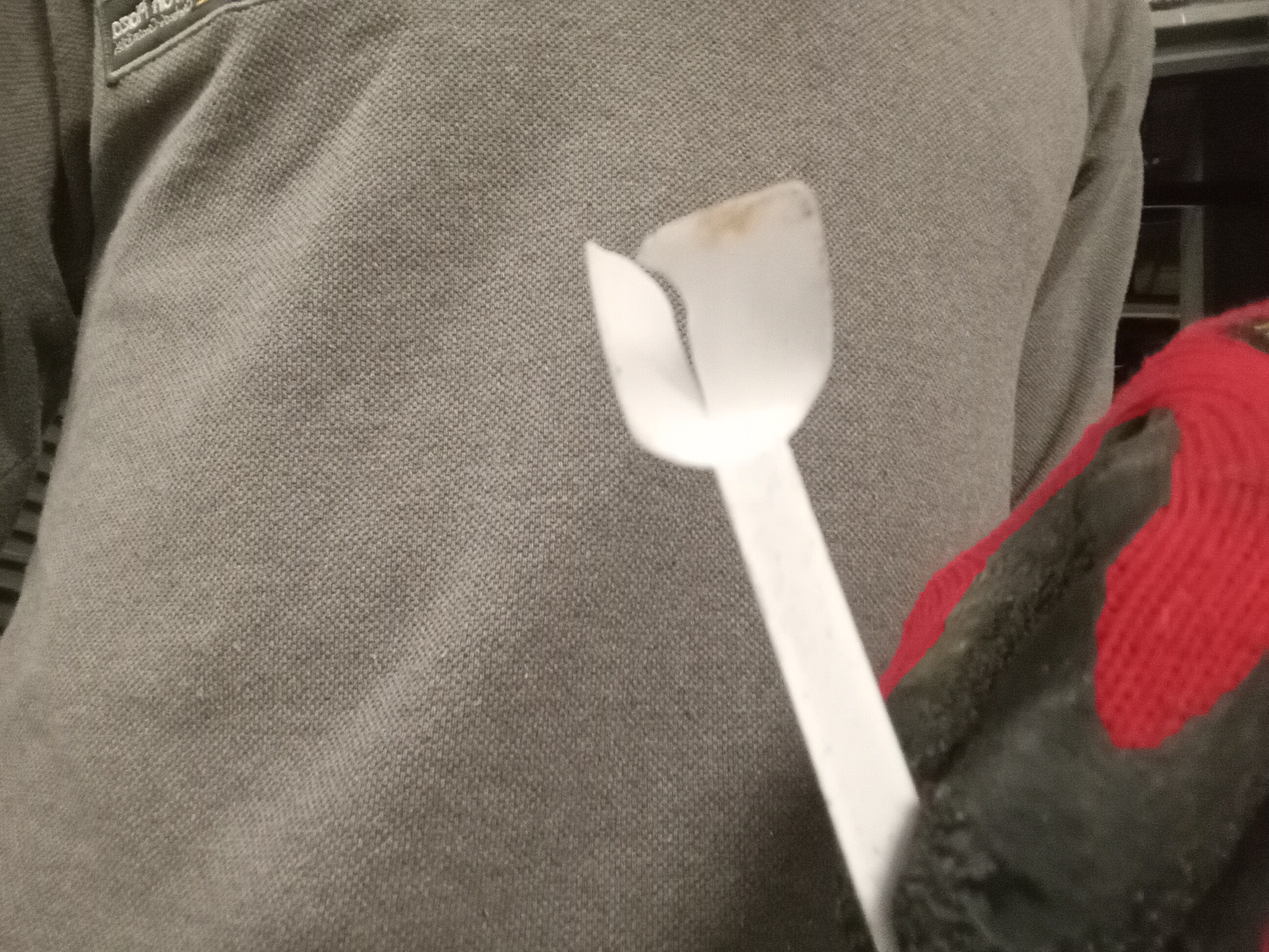Ordinario: (584, 178, 924, 948)
